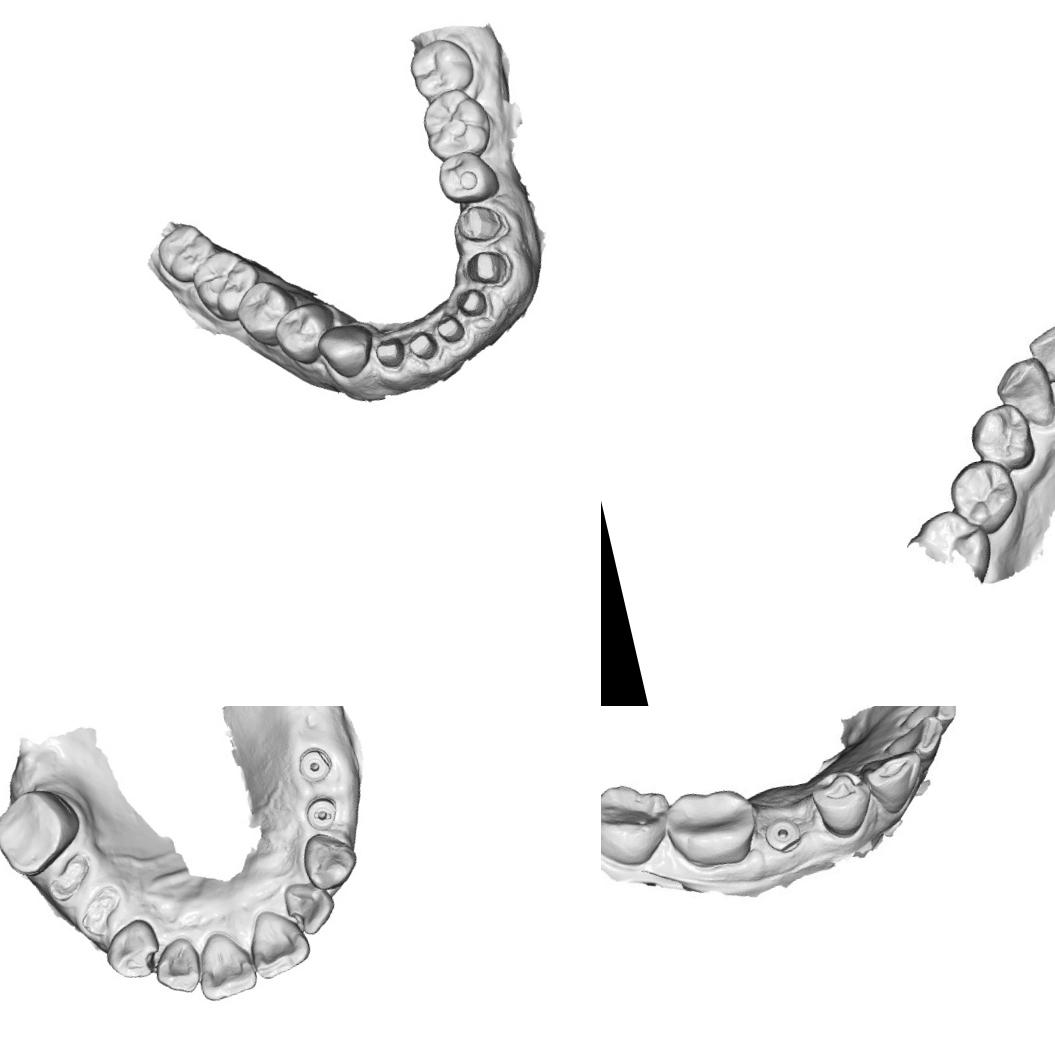canine: (990, 352, 1055, 438), (98, 914, 166, 986), (296, 824, 364, 894), (314, 318, 382, 384)
crown: (452, 198, 512, 250), (463, 245, 516, 292), (453, 285, 492, 324), (371, 334, 409, 372), (432, 311, 467, 349), (406, 326, 440, 362)
implant: (757, 806, 809, 858), (292, 740, 338, 786)
implant_minus: (300, 792, 343, 836)
incisor: (239, 899, 317, 983), (188, 924, 263, 1005), (863, 741, 929, 821), (279, 873, 342, 940), (148, 932, 207, 1000), (1030, 322, 1055, 401)
molar: (0, 781, 90, 884), (601, 768, 682, 879), (662, 780, 760, 871), (415, 84, 496, 164), (188, 245, 266, 317), (403, 32, 479, 103), (152, 218, 222, 287)
premolar: (941, 450, 1030, 542), (963, 398, 1044, 480), (807, 762, 881, 848), (270, 297, 344, 371), (229, 274, 303, 344), (431, 144, 504, 210)
